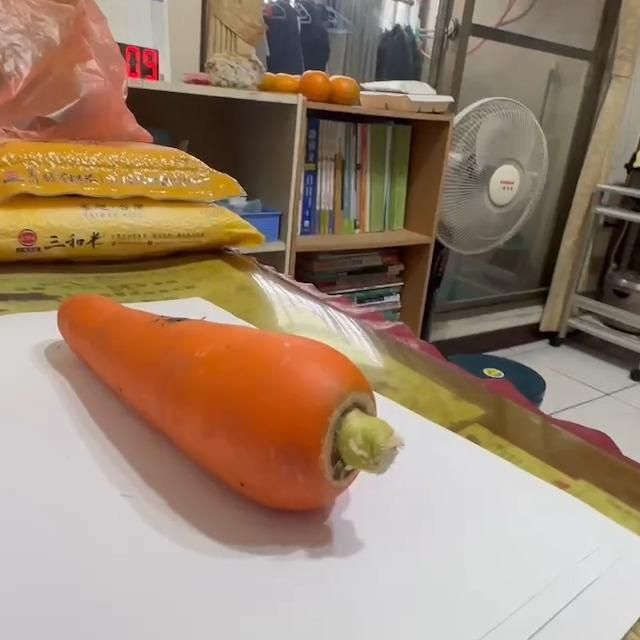carrot: (52, 294, 405, 520)
